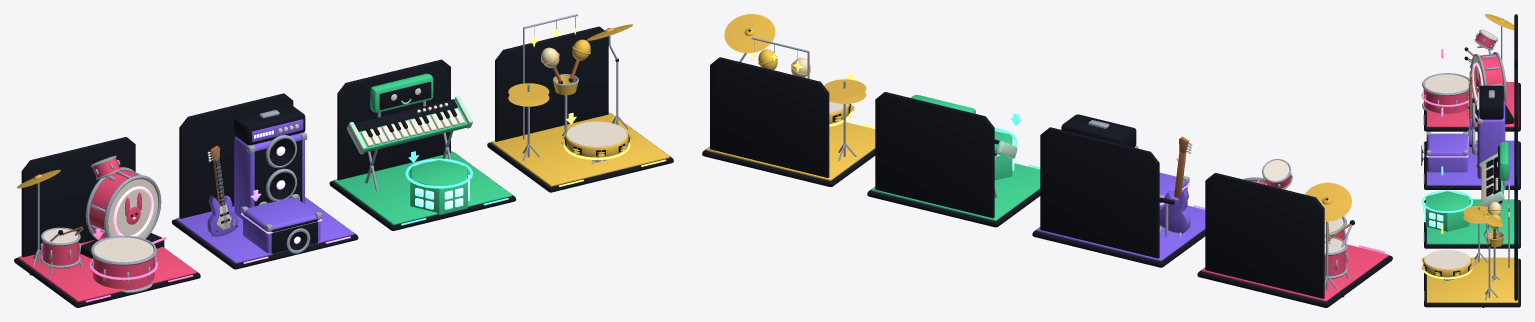
The model's file is stations.glb.
The picture shows the model from 3 angles, left to right: view 1: azimuth 30°, elevation 25°; view 2: azimuth 150°, elevation 25°; view 3: azimuth 270°, elevation 25°; orthographic projection. The views are drawn at different scales.
Parts seen in each view (by area): view 1: TOPS_Backdrop, MUSIC_Backdrop, DRUMS_Backdrop, BASS_Backdrop, BASS_Static, DRUMS_Static, MUSIC_Static, TOPS_Static, DRUMS_KickHead, MUSIC_Face, BASS_Guitar, MUSIC_Pads (+4 smaller); view 2: BASS_Backdrop, MUSIC_Backdrop, DRUMS_Backdrop, TOPS_Backdrop, DRUMS_Static, BASS_Static, BASS_Guitar, TOPS_Ride, DRUMS_Crash, MUSIC_Static, TOPS_Static, TOPS_HatTop; view 3: TOPS_Backdrop, BASS_Static, DRUMS_Static, MUSIC_Backdrop, MUSIC_Static, BASS_Backdrop, TOPS_Static, DRUMS_Backdrop, MUSIC_Face, DRUMS_KickHead, BASS_Guitar, TOPS_Ride (+8 smaller).
Part boxes in pixels (x1,y1,x2,y2): TOPS_Backdrop: (487,26,673,192); MUSIC_Backdrop: (329,59,516,230); DRUMS_Backdrop: (14,137,200,307); BASS_Backdrop: (172,93,358,269); BASS_Static: (234,104,322,254); DRUMS_Static: (29,155,166,293); MUSIC_Static: (347,96,472,215); TOPS_Static: (508,45,630,164); DRUMS_KickHead: (107,179,158,237); MUSIC_Face: (370,73,433,117); BASS_Guitar: (207,145,238,236); MUSIC_Pads: (415,175,469,209); BASS_Backdrop: (1032,127,1205,267); MUSIC_Backdrop: (867,92,1040,227); DRUMS_Backdrop: (1197,173,1392,307); TOPS_Backdrop: (702,57,875,186); DRUMS_Static: (1243,159,1348,297); BASS_Static: (1061,114,1189,225); BASS_Guitar: (1159,136,1192,236); TOPS_Ride: (724,14,775,53); DRUMS_Crash: (1305,182,1351,221); MUSIC_Static: (994,127,1017,197); TOPS_Static: (739,53,866,161); TOPS_HatTop: (824,79,866,97); TOPS_Backdrop: (1423,194,1520,307); BASS_Static: (1426,85,1505,178); DRUMS_Static: (1421,26,1513,124); MUSIC_Backdrop: (1423,131,1520,248); MUSIC_Static: (1421,153,1504,235); BASS_Backdrop: (1423,69,1520,189); TOPS_Static: (1422,207,1500,307); DRUMS_Backdrop: (1423,14,1520,131); MUSIC_Face: (1497,142,1509,203); DRUMS_KickHead: (1472,57,1483,103); BASS_Guitar: (1467,74,1477,151); TOPS_Ride: (1469,208,1503,226).
Size of the model in its own units: 17.66 by 3.32 by 3.32.
